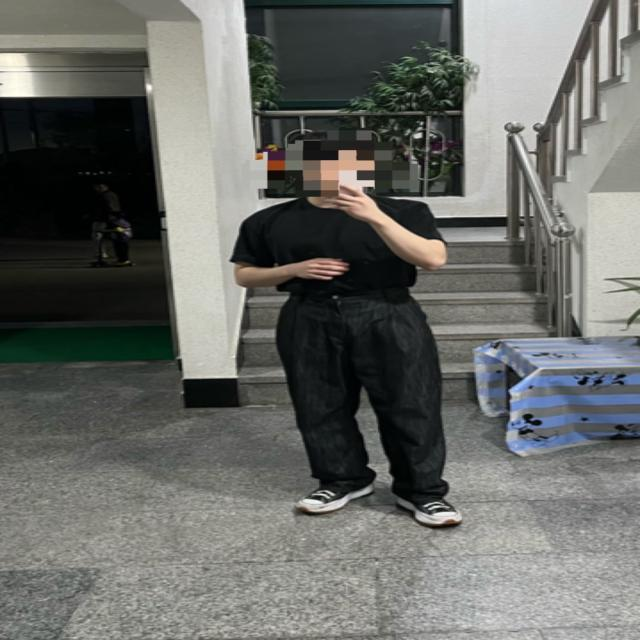denimpants: (283, 286, 450, 504)
shortsleeve: (232, 197, 446, 288)
